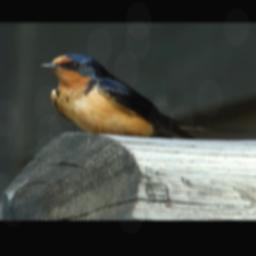Swallow: (39, 53, 253, 139)
